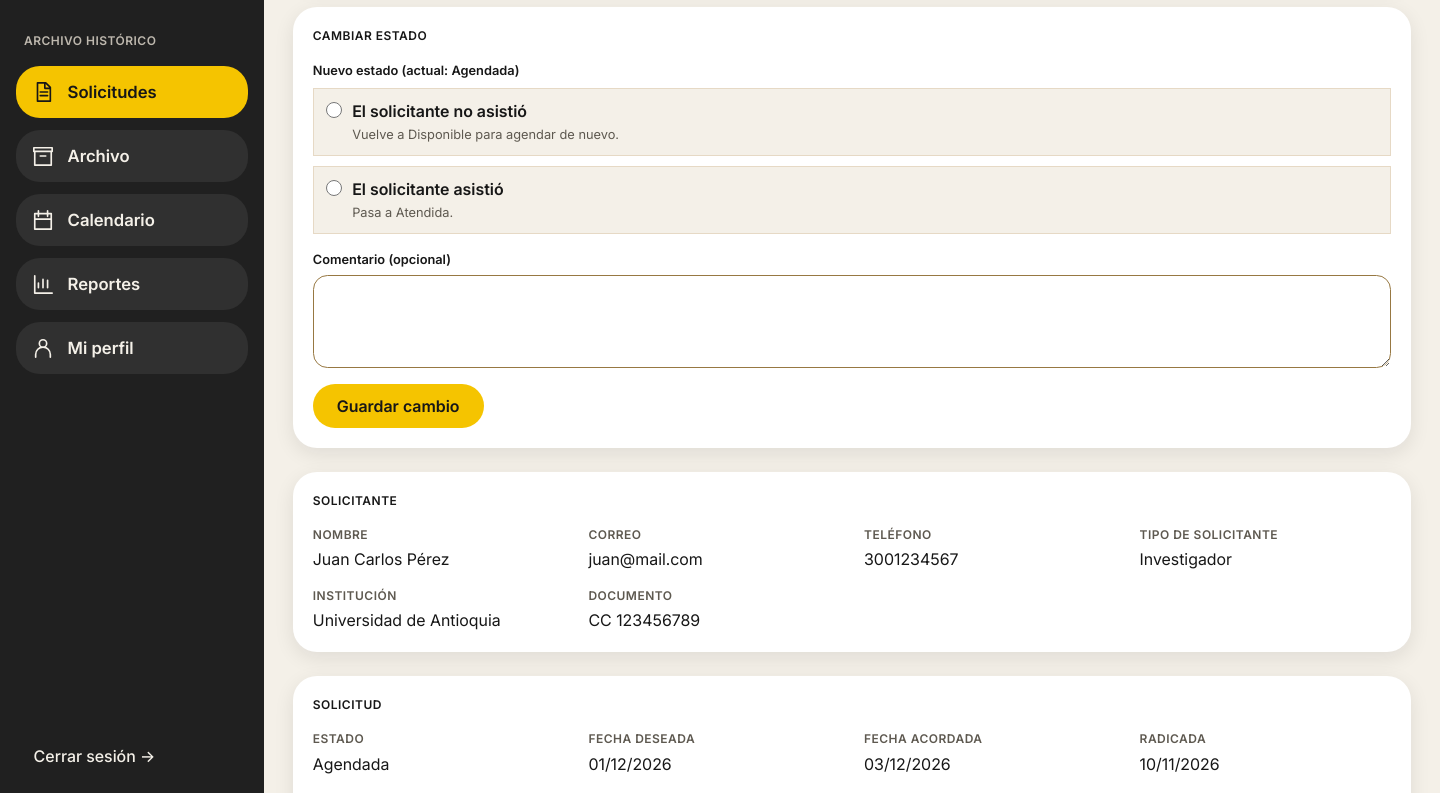
Test: RequestDetailPage › change status (HU-15) › asks to choose the new status before saving
(page scrolled)
Click the button "Guardar cambio" at (398, 406), box 313,384 -> 484,428
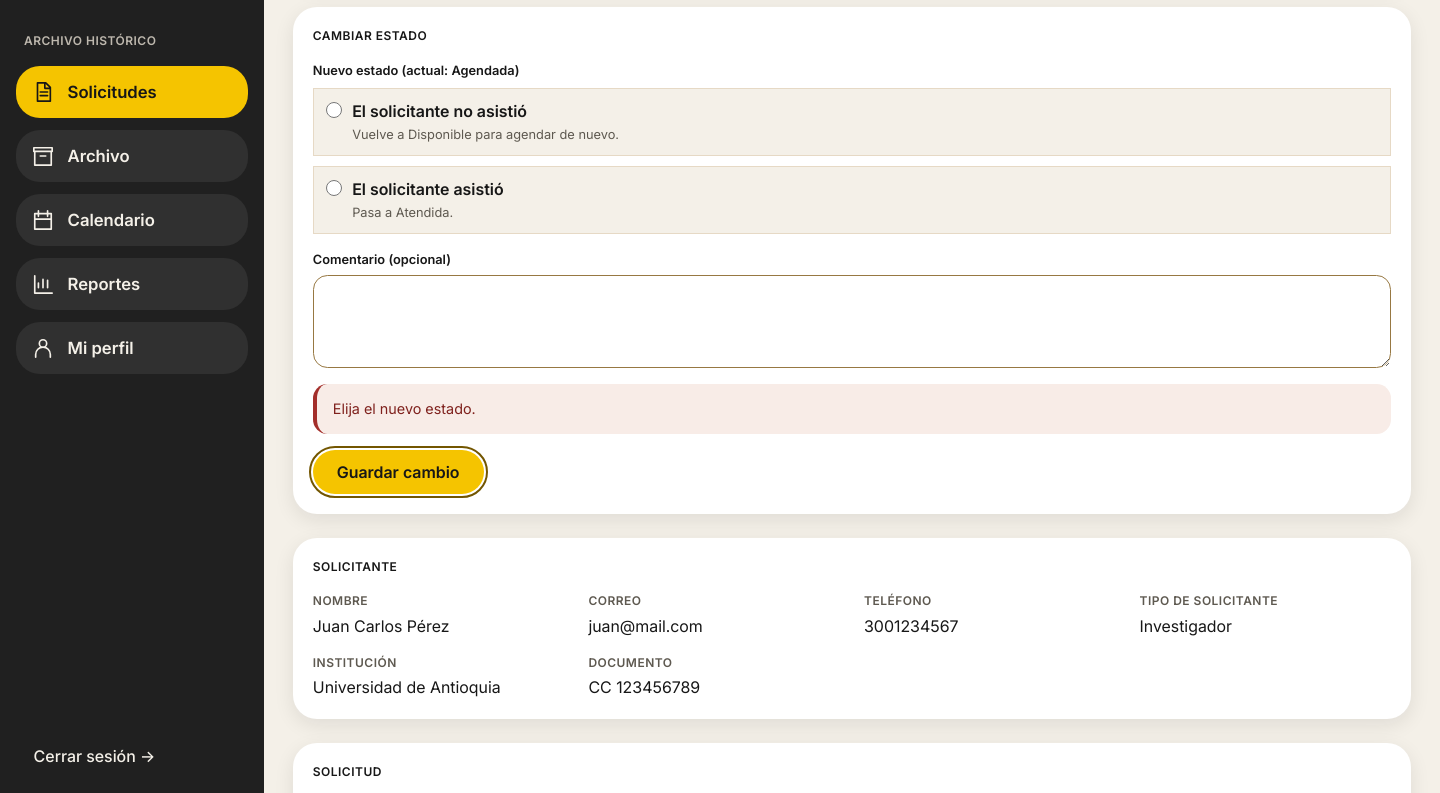
Now the message reads "Elija el nuevo estado.", box 333,400 -> 476,417
